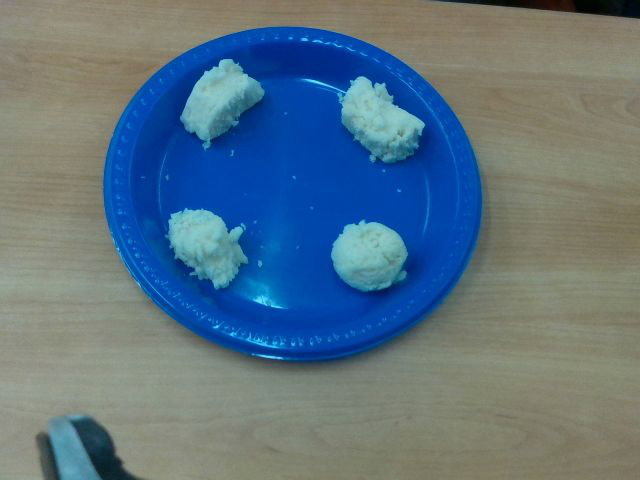mashed_potato: (337, 77, 425, 162), (181, 59, 265, 141), (168, 209, 248, 287), (331, 221, 407, 293)
